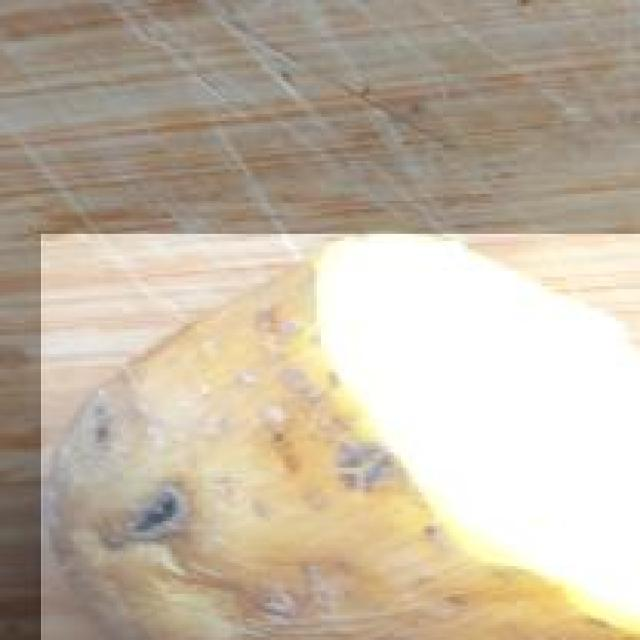potato: (37, 231, 640, 640)
